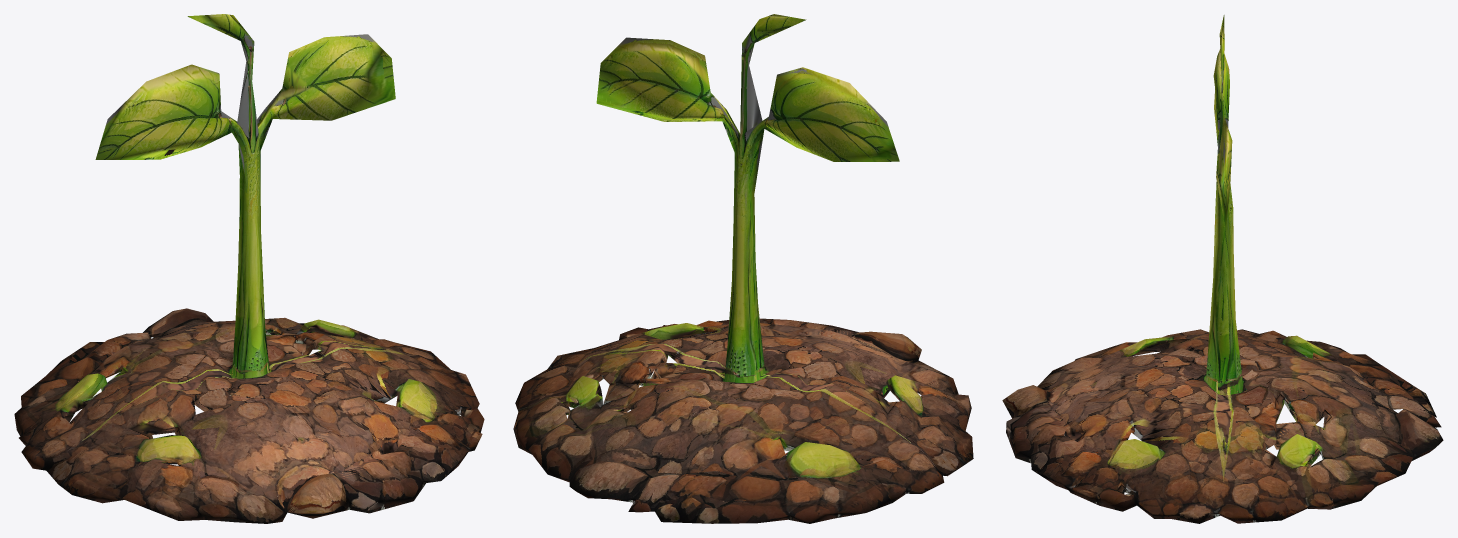
Rendered from Crop_KidneyBean_Sprout.fbx.
The picture shows the model from 3 angles, left to right: view 1: azimuth 30°, elevation 25°; view 2: azimuth 150°, elevation 25°; view 3: azimuth 270°, elevation 25°; orthographic projection. The views are drawn at different scales.
Visible parts, largest first — view 1: texture_mapping; view 2: texture_mapping; view 3: texture_mapping.
Boxes of the visible parts, x1,y1,x2,y2 form: texture_mapping: (14, 14, 484, 523); texture_mapping: (513, 14, 973, 523); texture_mapping: (1002, 15, 1443, 523).
Size of the model in its own units: 0.9911 by 0.9936 by 0.9777.
1 material, 1 textured.
